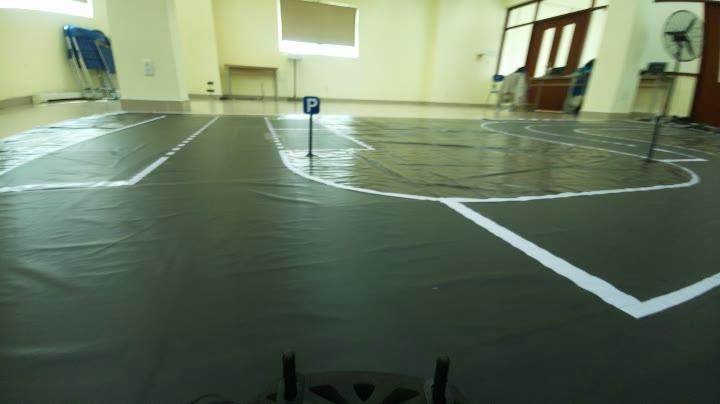parking: (292, 88, 330, 117)
